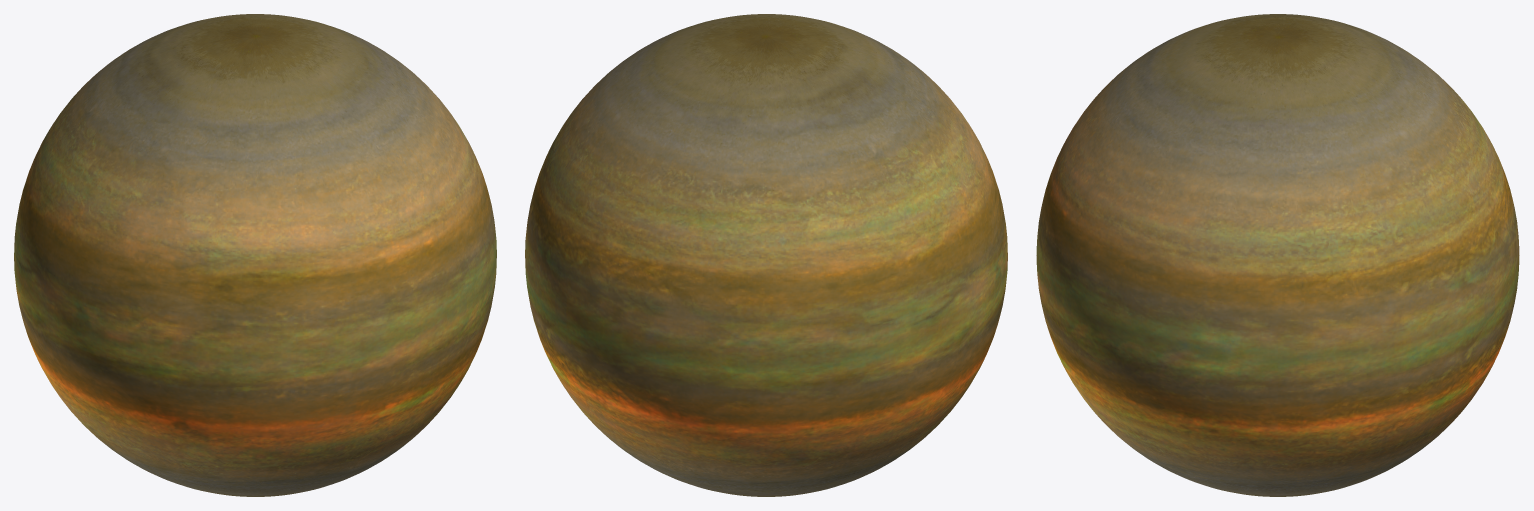
The picture shows the model from 3 angles, left to right: view 1: azimuth 30°, elevation 25°; view 2: azimuth 150°, elevation 25°; view 3: azimuth 270°, elevation 25°; orthographic projection.
Visible parts, largest first — view 1: Esfera; view 2: Esfera; view 3: Esfera.
Part boxes in pixels (x1,y1,x2,y2): Esfera: [14, 14, 496, 496]; Esfera: [525, 14, 1007, 496]; Esfera: [1036, 14, 1519, 496].
Bounding box in the file's own units: 2000 × 2000 × 2000.
Materials: 1 (1 with a texture image).
